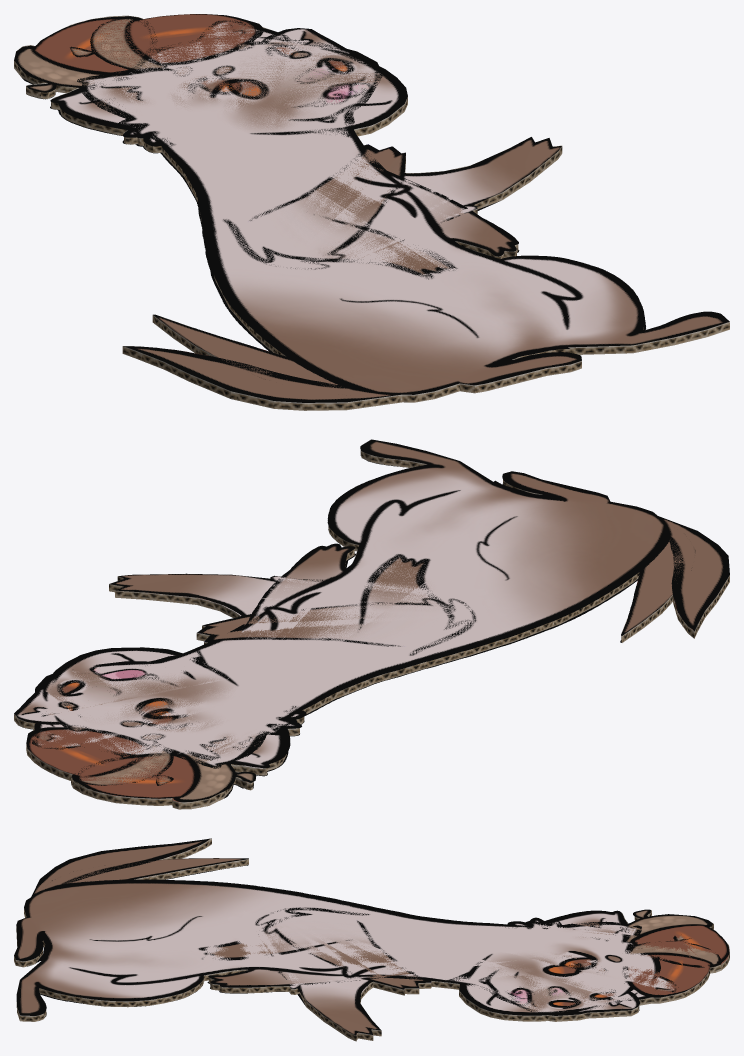
The model's file is Sprite_Nut_Full.fbx.
3 views of the same model, one above another, from view 1: azimuth 30°, elevation 25°; view 2: azimuth 150°, elevation 25°; view 3: azimuth 270°, elevation 25° (orthographic). The views are drawn at different scales.
Parts seen in each view (by area): view 1: Plane, Plane.001; view 2: Plane, Plane.001; view 3: Plane.001, Plane.
Boxes of the visible parts, x1=… form: Plane: x1=70, y1=14, x2=729, y2=410; Plane.001: x1=14, y1=15, x2=728, y2=394; Plane: x1=14, y1=439, x2=729, y2=793; Plane.001: x1=32, y1=440, x2=695, y2=809; Plane.001: x1=15, y1=858, x2=729, y2=1041; Plane: x1=14, y1=838, x2=720, y2=1021.
Bounding box in the file's own units: 284 × 4 × 436.
